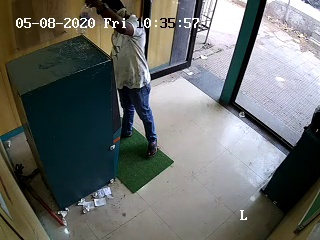open: (140, 3, 262, 125)
